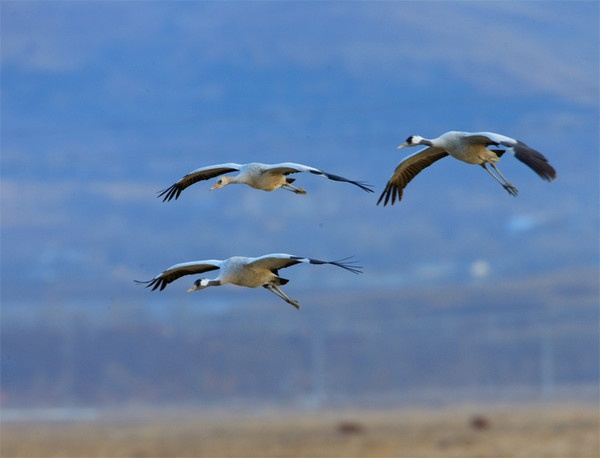fish: (373, 129, 557, 206), (129, 248, 362, 308), (152, 157, 375, 201)
